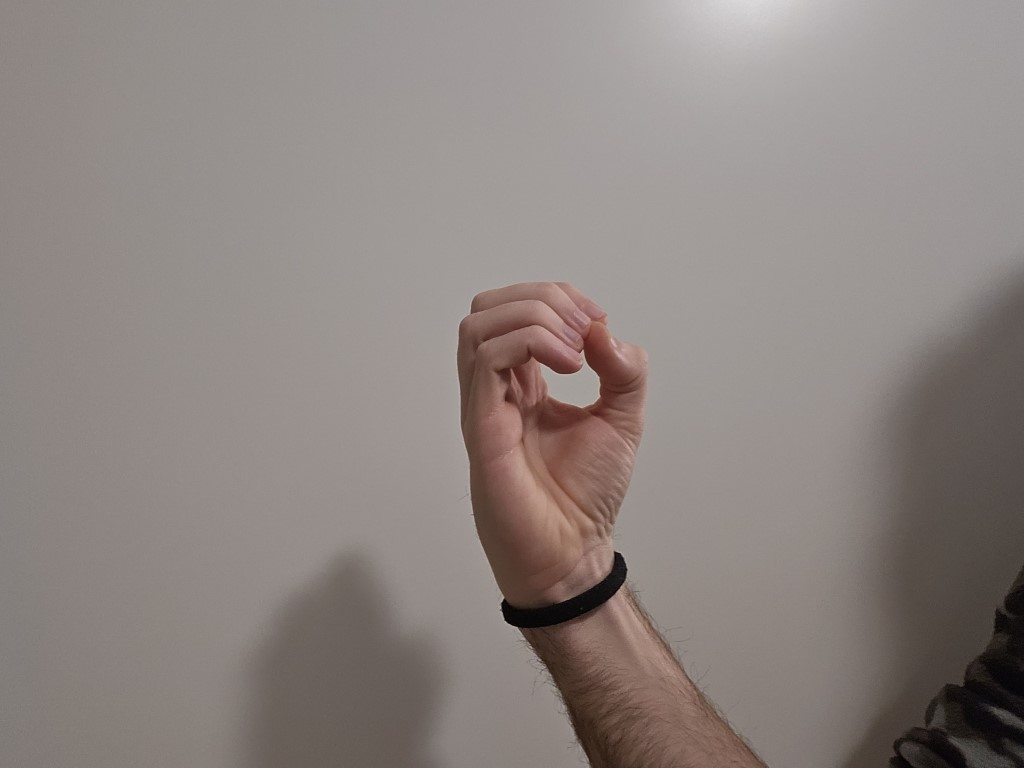o: (417, 267, 661, 575)
